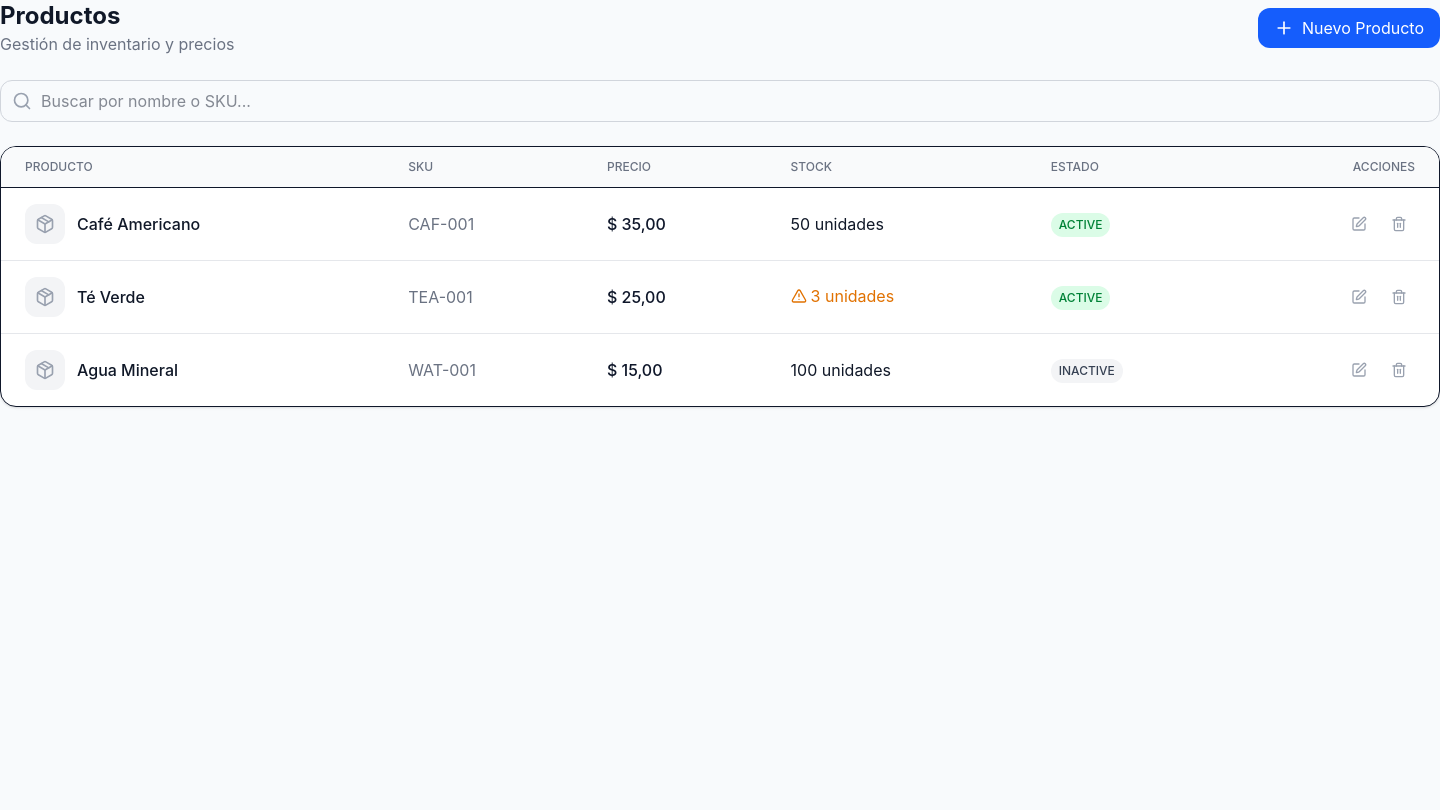
it: ProductsPage › Create Product Modal › should close modal when clicking close button
// Open modal
Click the button "Nuevo Producto" at (1349, 28), box [1258, 8, 1439, 48]
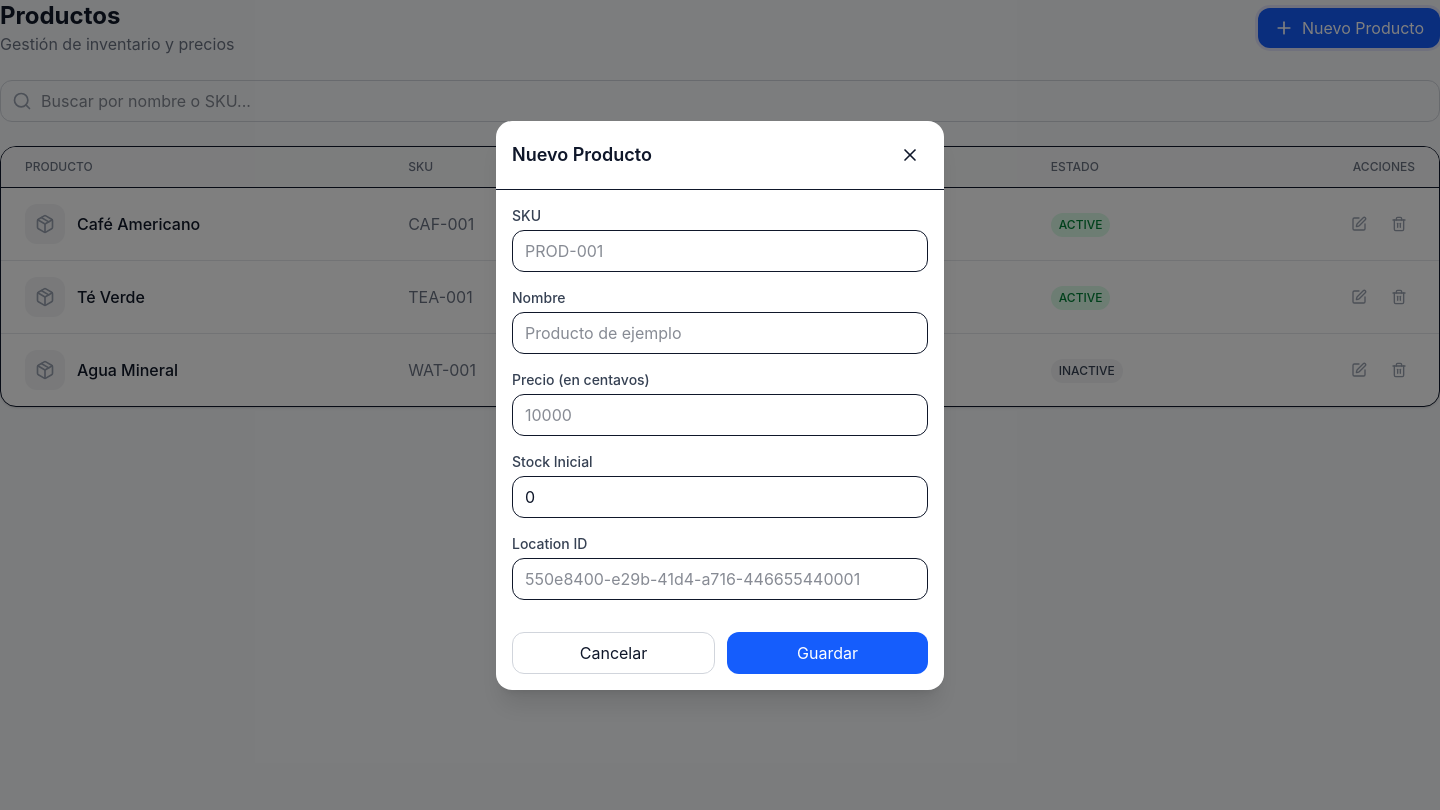
Check: the dialog is shown
Click the 1st button at (910, 154), box [892, 136, 928, 172]
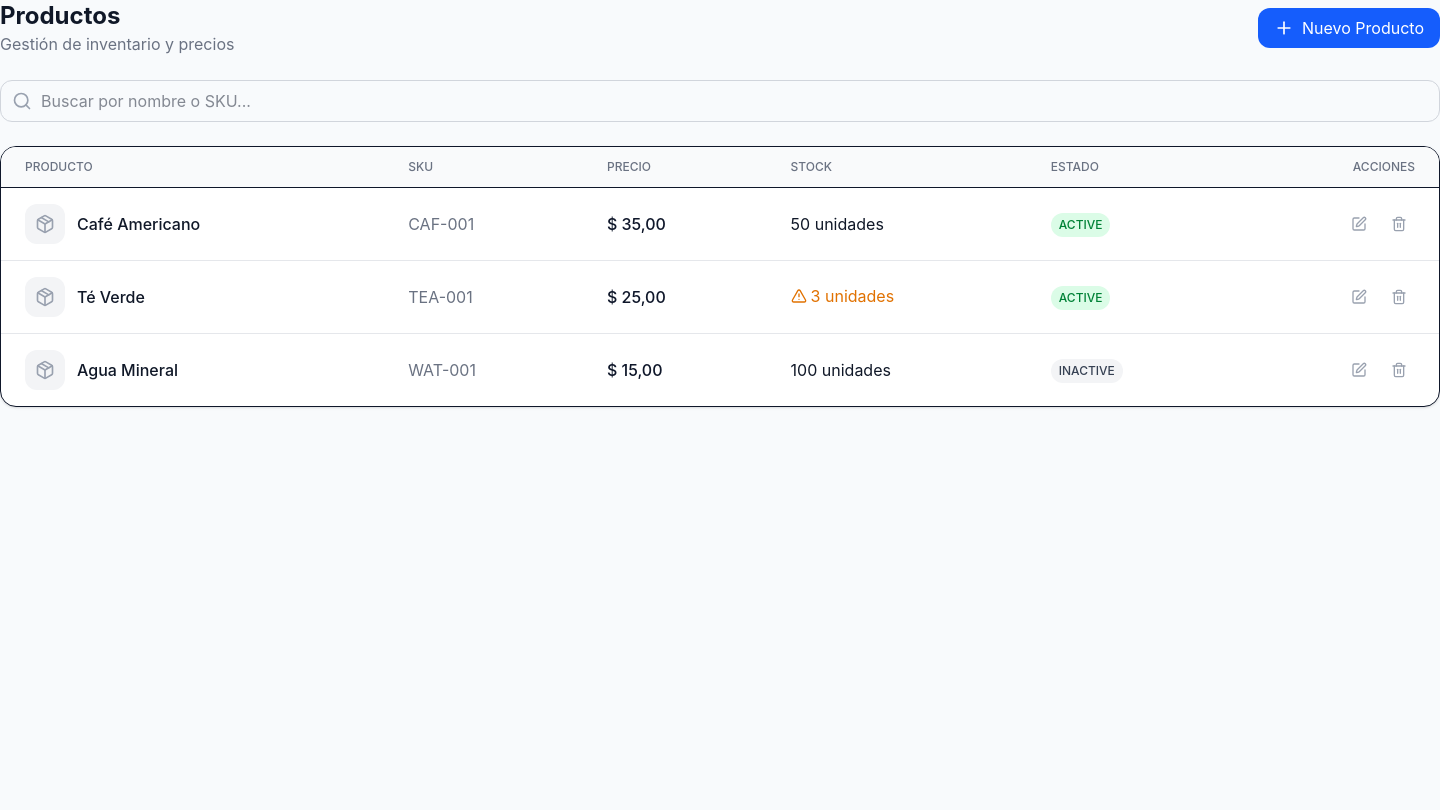
Check: the dialog is gone
